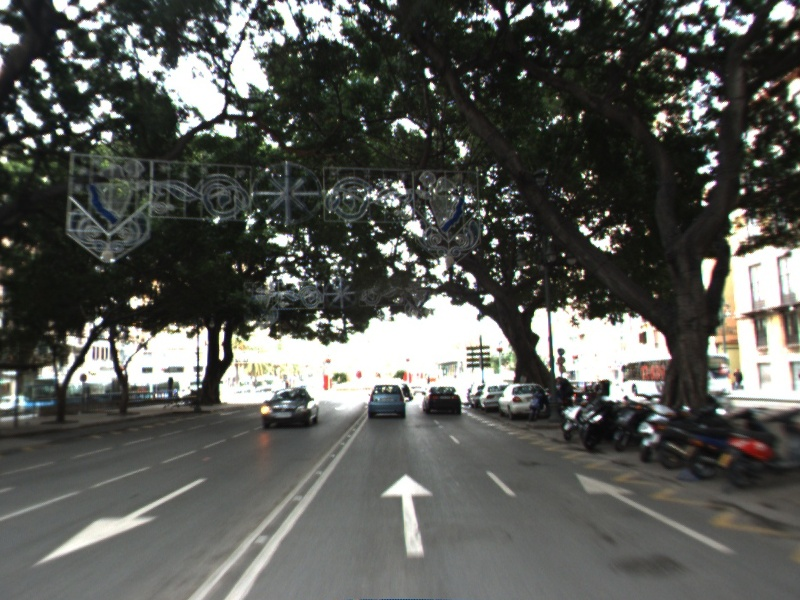STRAIGHT: (571, 469, 742, 559), (377, 471, 437, 561)
